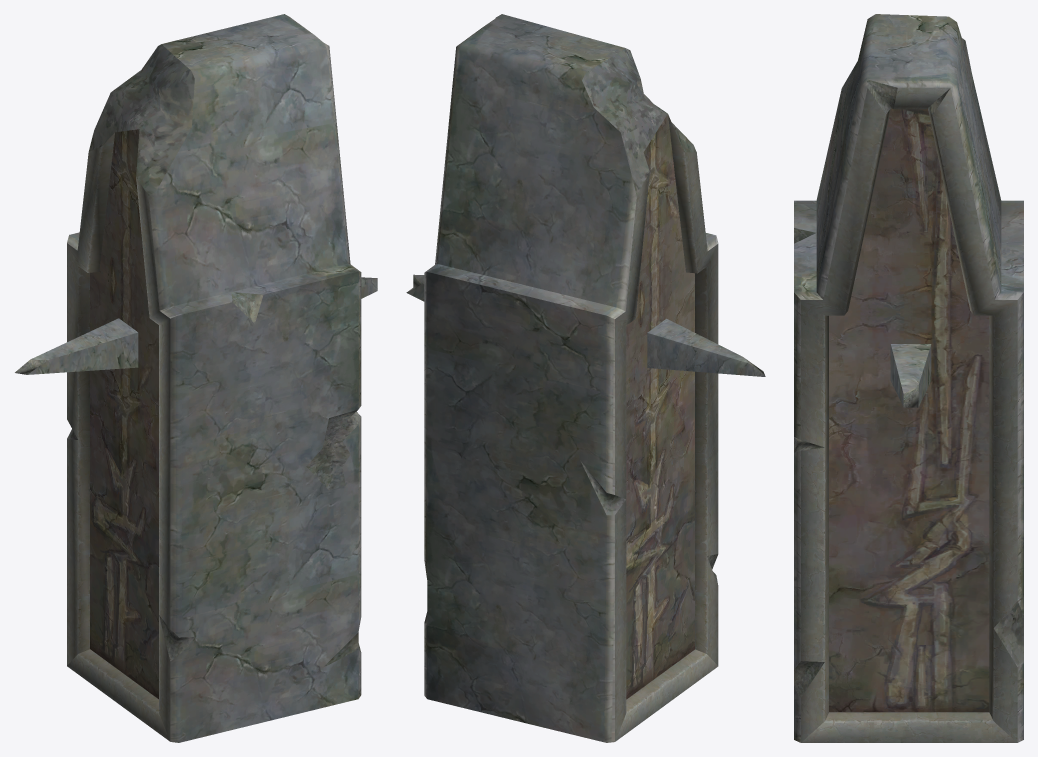
File: all_arch_sith_ruins_pillar.glb
3 views of the same model, side by side, from view 1: azimuth 30°, elevation 25°; view 2: azimuth 150°, elevation 25°; view 3: azimuth 270°, elevation 25° (orthographic). The views are drawn at different scales.
Visible parts, largest first — view 1: all_arch_sith_ruins_pillar; view 2: all_arch_sith_ruins_pillar; view 3: all_arch_sith_ruins_pillar.
Boxes of the visible parts, bbox=[...] form: all_arch_sith_ruins_pillar: bbox=[15, 14, 377, 742]; all_arch_sith_ruins_pillar: bbox=[406, 14, 765, 742]; all_arch_sith_ruins_pillar: bbox=[794, 14, 1023, 742].
Size of the model in its own units: 0.3621 by 0.6099 by 0.1924.
3 materials, 3 textured.
